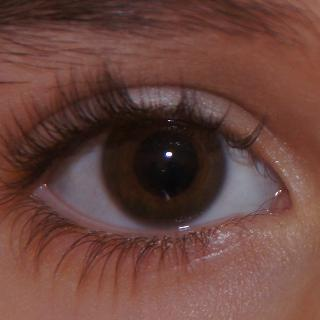pupil: (133, 132, 198, 197)
